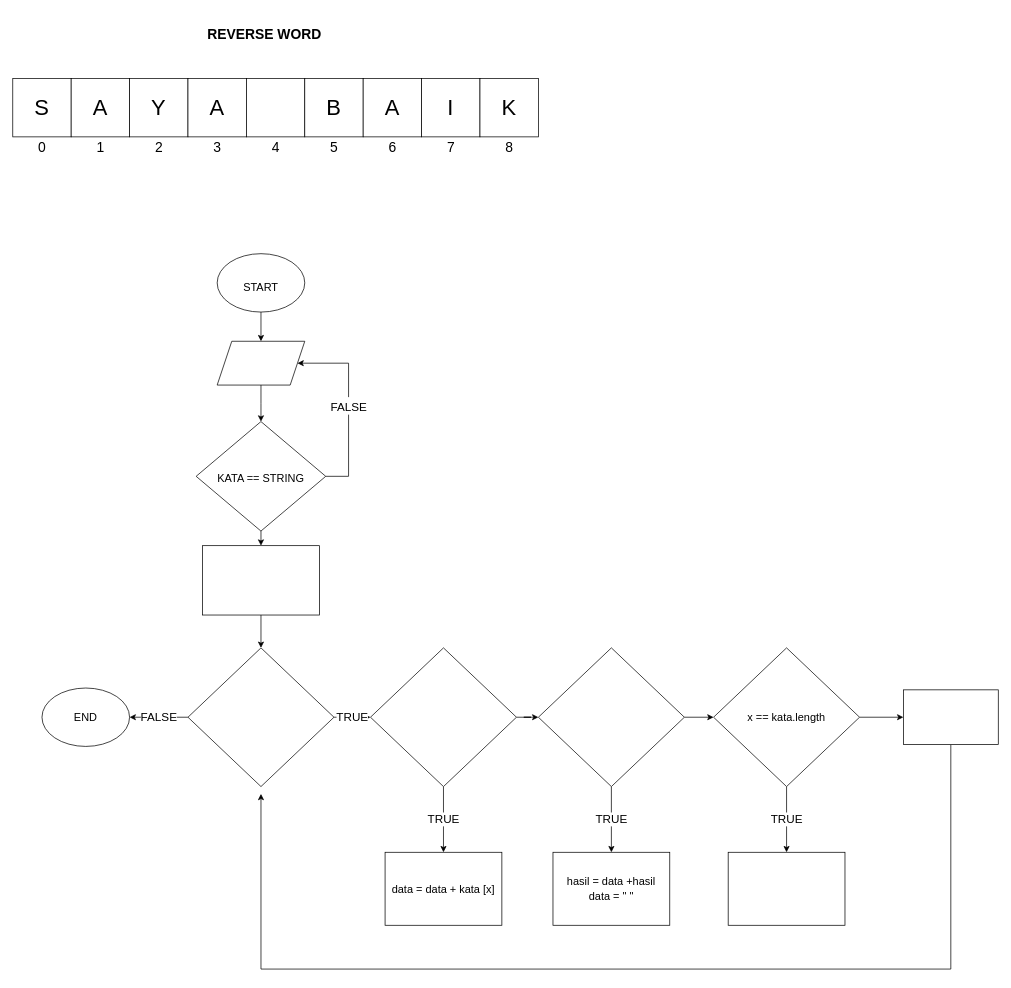
This 1011x988 diagram has some shape labels left out. Here are the shapes that lost their labels. From the top down, the box of each, then its label:
(216, 341, 305, 385): KATA
(202, 545, 319, 615): X = 0 hasil = "" data = ""
(187, 647, 334, 787): X <= kata.length
(370, 647, 516, 787): kata[x]
(538, 647, 684, 787): kata[x] = " "
(903, 689, 998, 745): X = X + 1
(727, 852, 845, 925): hasil = data" " + hasil data = " "
